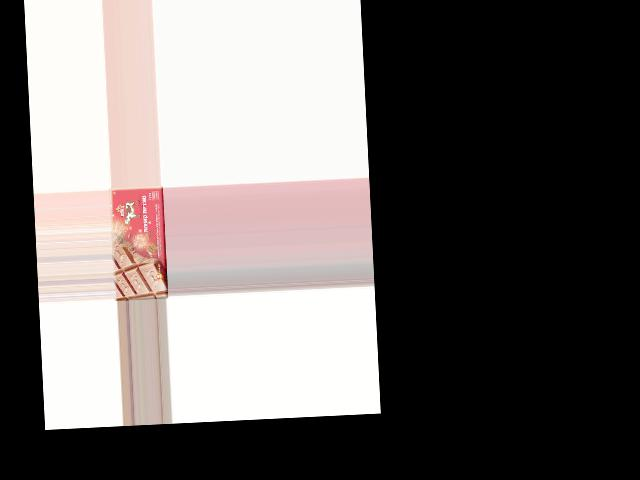chocolate: (109, 185, 168, 300)
